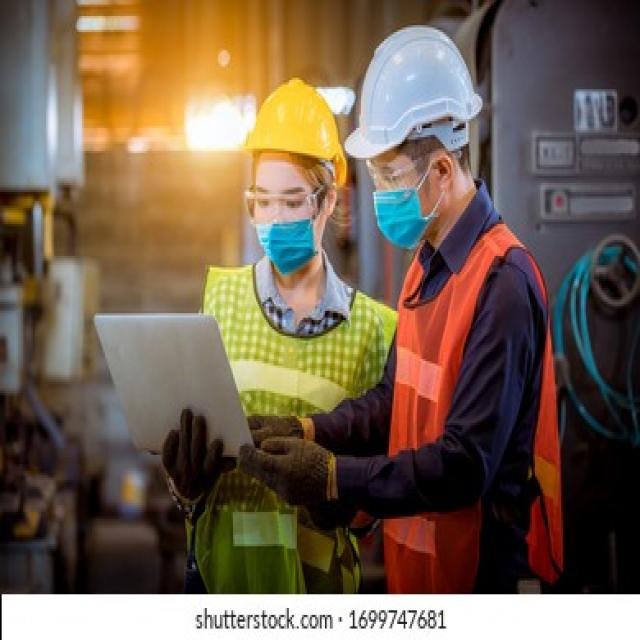Reflective-Jacket: (184, 263, 400, 590), (380, 215, 560, 587)
Safety-Helmet: (346, 23, 484, 162), (235, 73, 348, 185)
